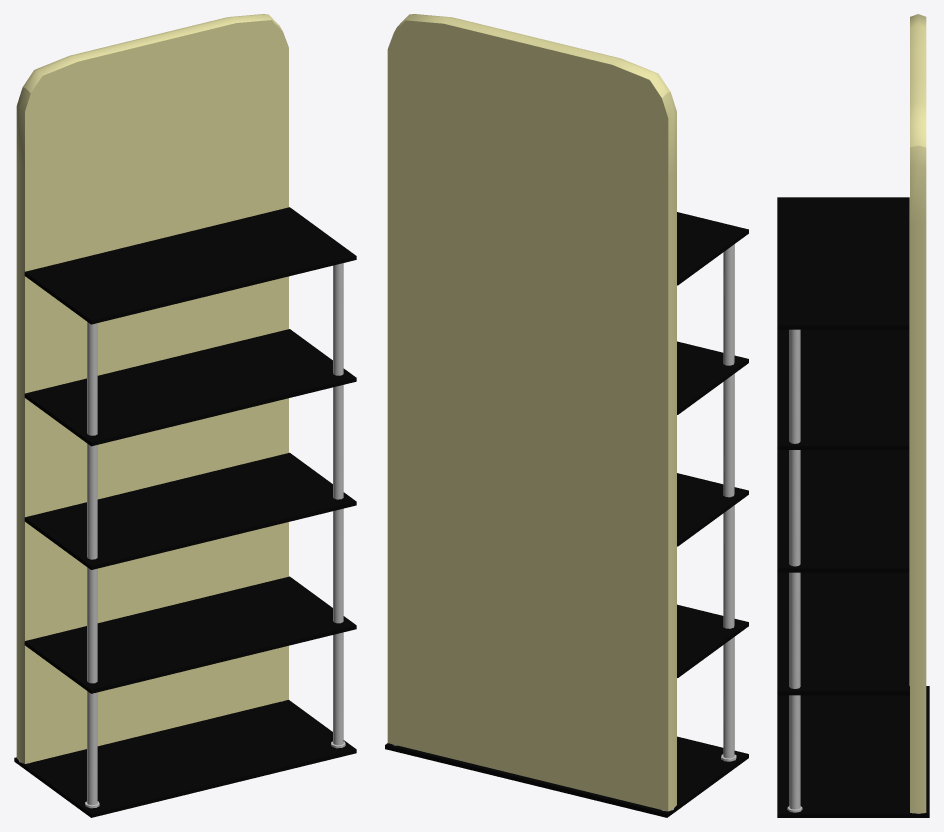
Rendered from Showtime.glb.
3 views of the same model, side by side, from view 1: azimuth 30°, elevation 25°; view 2: azimuth 150°, elevation 25°; view 3: azimuth 270°, elevation 25° (orthographic). The views are drawn at different scales.
Visible parts, largest first — view 1: QuickZip Showtime; view 2: QuickZip Showtime; view 3: QuickZip Showtime.
Part boxes in pixels (<box>): QuickZip Showtime: <box>14,14,356,817</box>; QuickZip Showtime: <box>385,14,748,817</box>; QuickZip Showtime: <box>777,14,929,817</box>.
Bounding box in the file's own units: 0.9144 × 2.29 × 0.4572.
